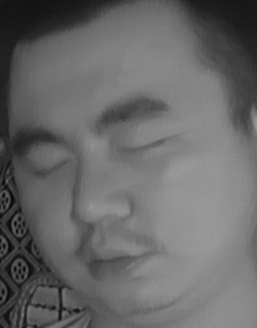blink: (117, 126, 175, 165), (23, 147, 76, 182)
mouth: (72, 232, 157, 283)
